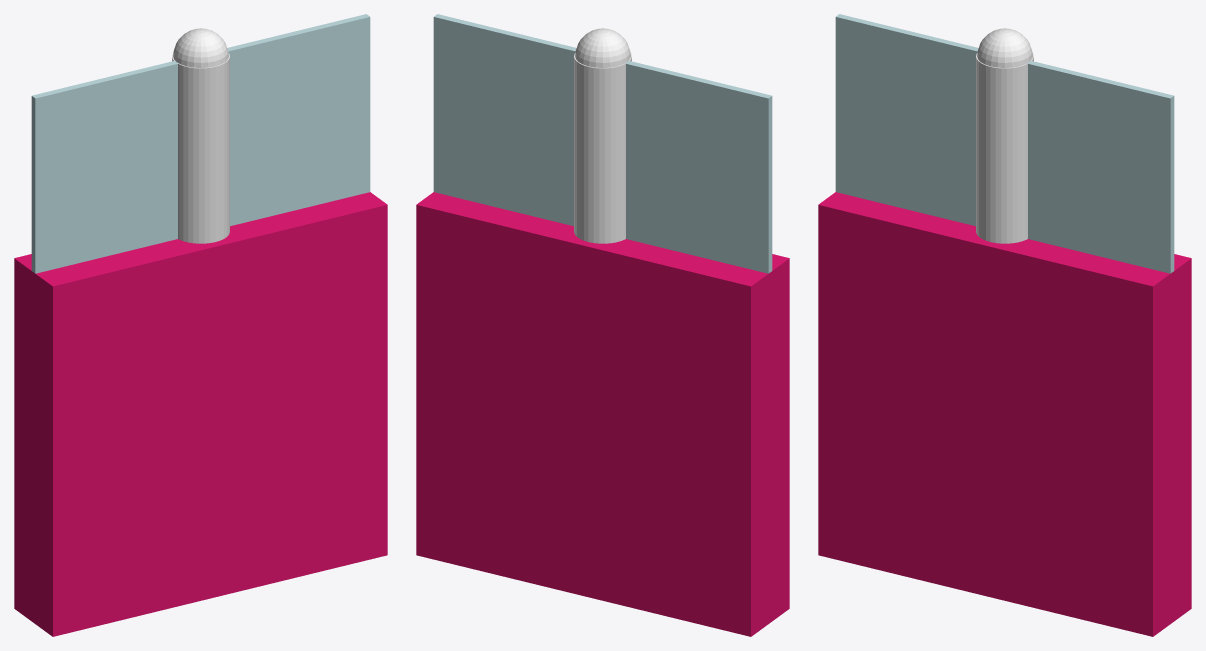
File: partition.fbx
The picture shows the model from 3 angles, left to right: view 1: azimuth 30°, elevation 25°; view 2: azimuth 150°, elevation 25°; view 3: azimuth 330°, elevation 25°; orthographic projection.
Visible parts, largest first — view 1: partition, glass, Cylinder; view 2: partition, glass, Cylinder; view 3: partition, glass, Cylinder.
Boxes of the visible parts, left/top/right/bottom form: partition: left=14, top=192, right=387, bottom=636; glass: left=31, top=14, right=370, bottom=273; Cylinder: left=172, top=28, right=229, bottom=243; partition: left=416, top=192, right=789, bottom=636; glass: left=433, top=14, right=772, bottom=273; Cylinder: left=574, top=28, right=631, bottom=243; partition: left=818, top=192, right=1191, bottom=636; glass: left=835, top=14, right=1174, bottom=273; Cylinder: left=976, top=28, right=1033, bottom=243.
Size of the model in its own units: 62 by 97.47 by 12.4.
3 materials, 3 textured.
